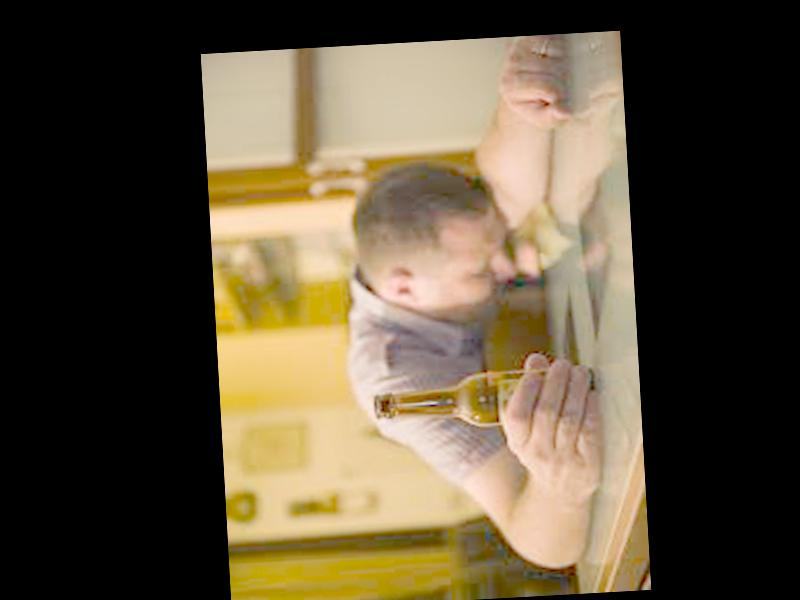Beer: (371, 368, 598, 429)
